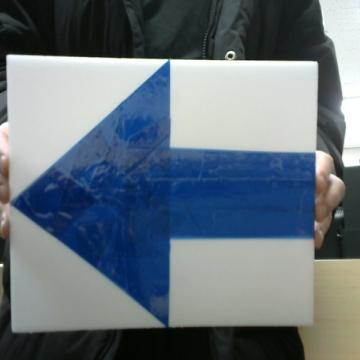blue_left: (11, 61, 314, 326)
